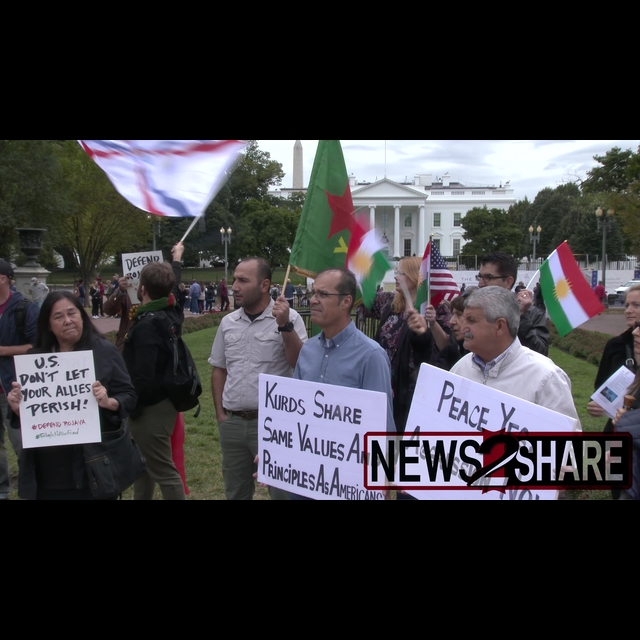IBKY: (538, 239, 606, 337)
